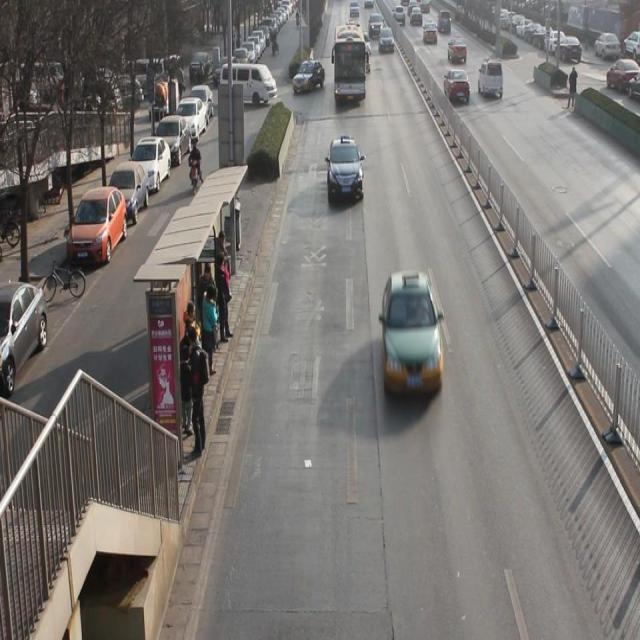car: (381, 275, 447, 397), (324, 137, 366, 210), (479, 58, 505, 104), (445, 69, 473, 104), (299, 59, 326, 95), (447, 35, 470, 66), (358, 44, 373, 76), (380, 29, 396, 55), (423, 22, 439, 44)
van: (334, 26, 365, 104)
